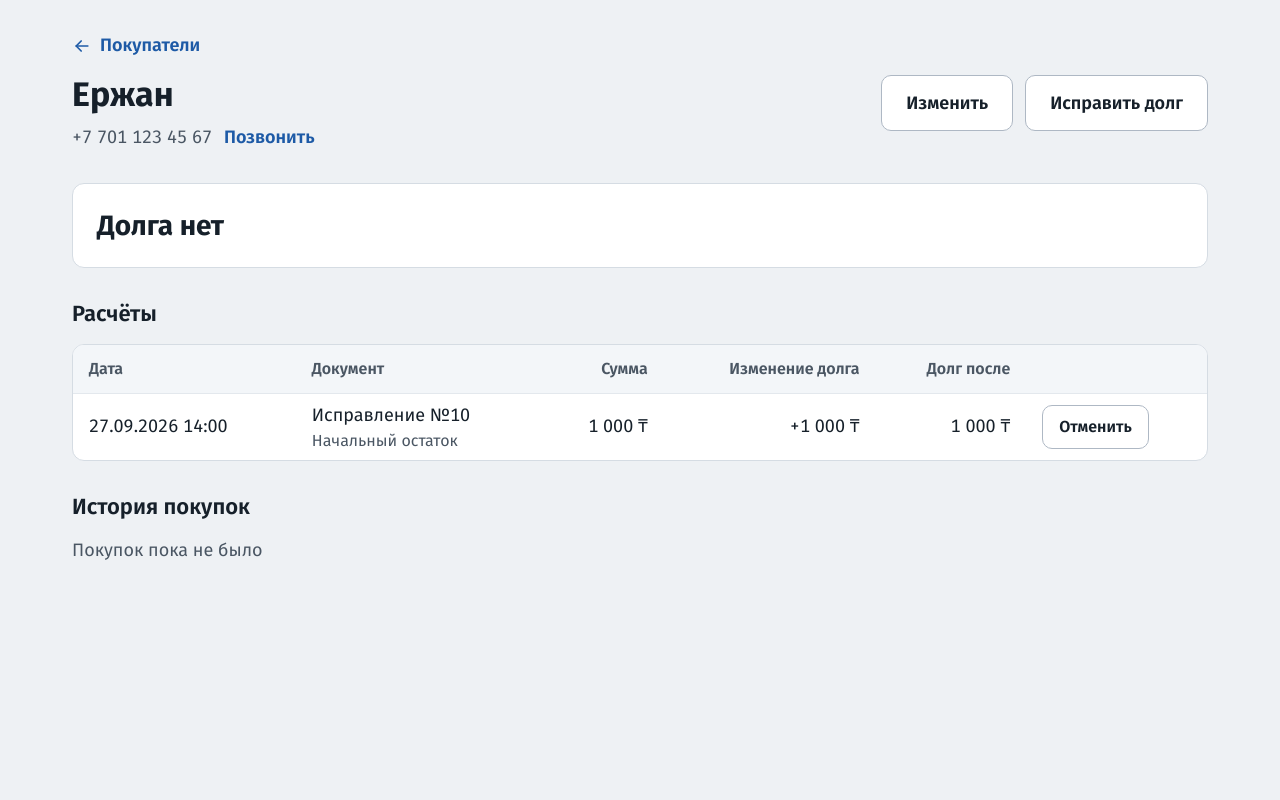
Test: opens adjustments at zero debt and cancels an adjustment with the single quick reason
What coordinates should you click on to do the following:
click the button "Исправить долг"
I would click on:
 (1117, 103)
Its box is [1025, 75, 1208, 131].
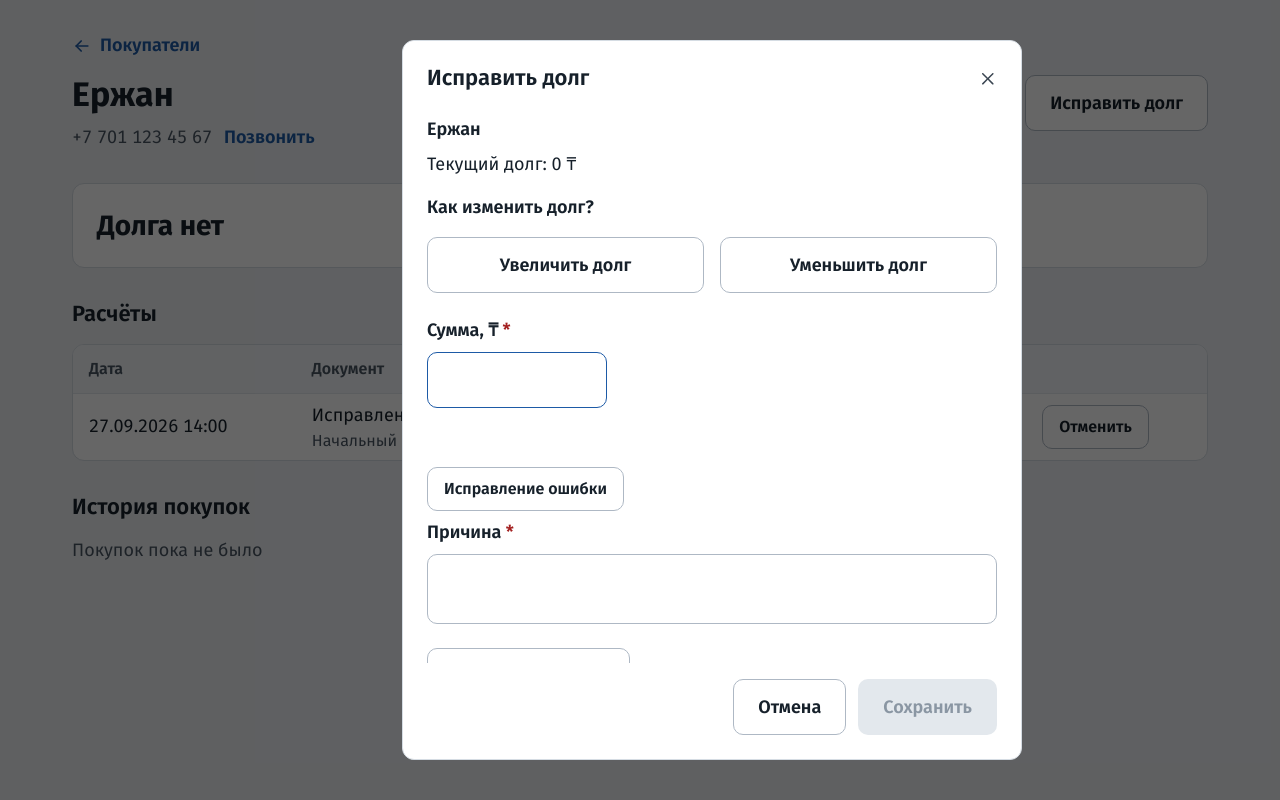
Expected: the dialog is shown, [402, 40, 1022, 760]
What coordinates should you click on to do the following:
click the button "Отмена"
I would click on:
 (790, 707)
Its box is [733, 679, 846, 735].
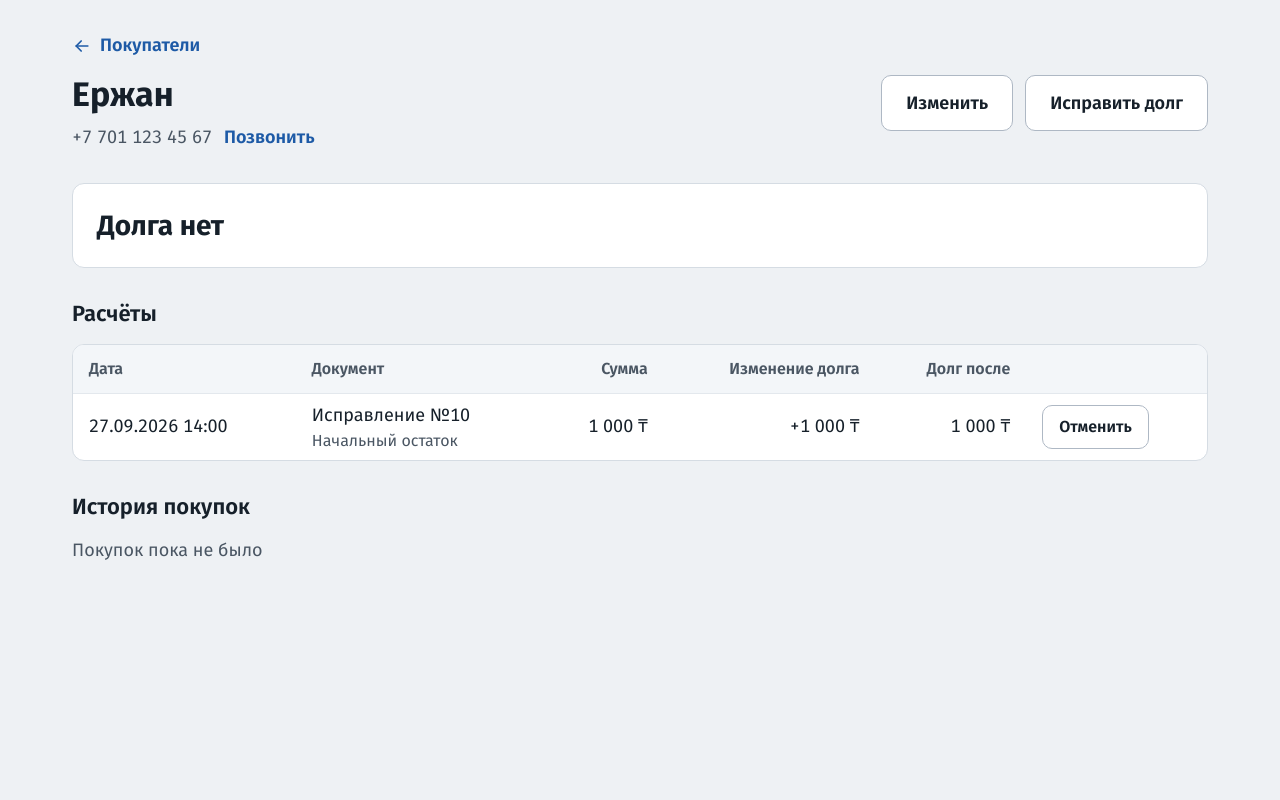
Expected: the dialog is gone
What coordinates should you click on to do the following:
click the button "Отменить"
I would click on:
 (1096, 427)
Its box is [1042, 405, 1149, 449].
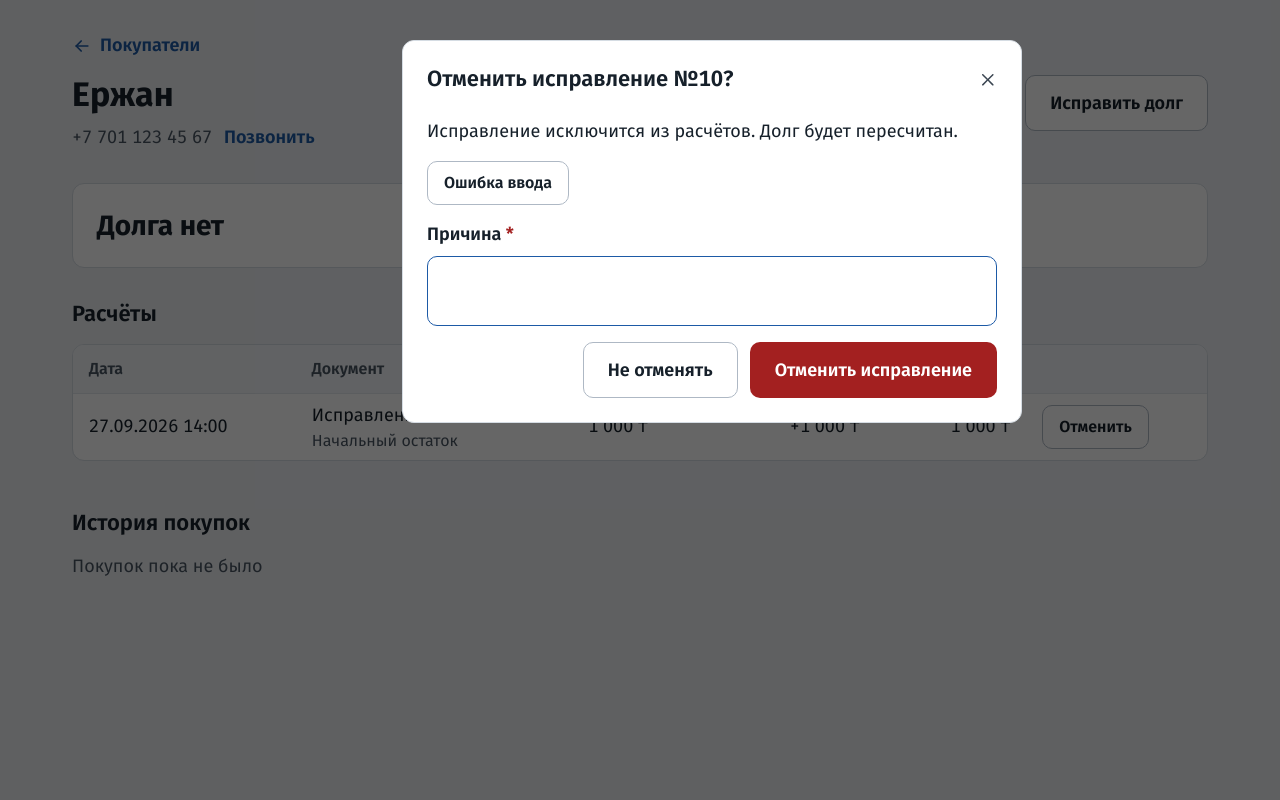
What coordinates should you click on to do the following:
click the button "Ошибка ввода"
I would click on:
 (498, 183)
Its box is [427, 161, 569, 205].
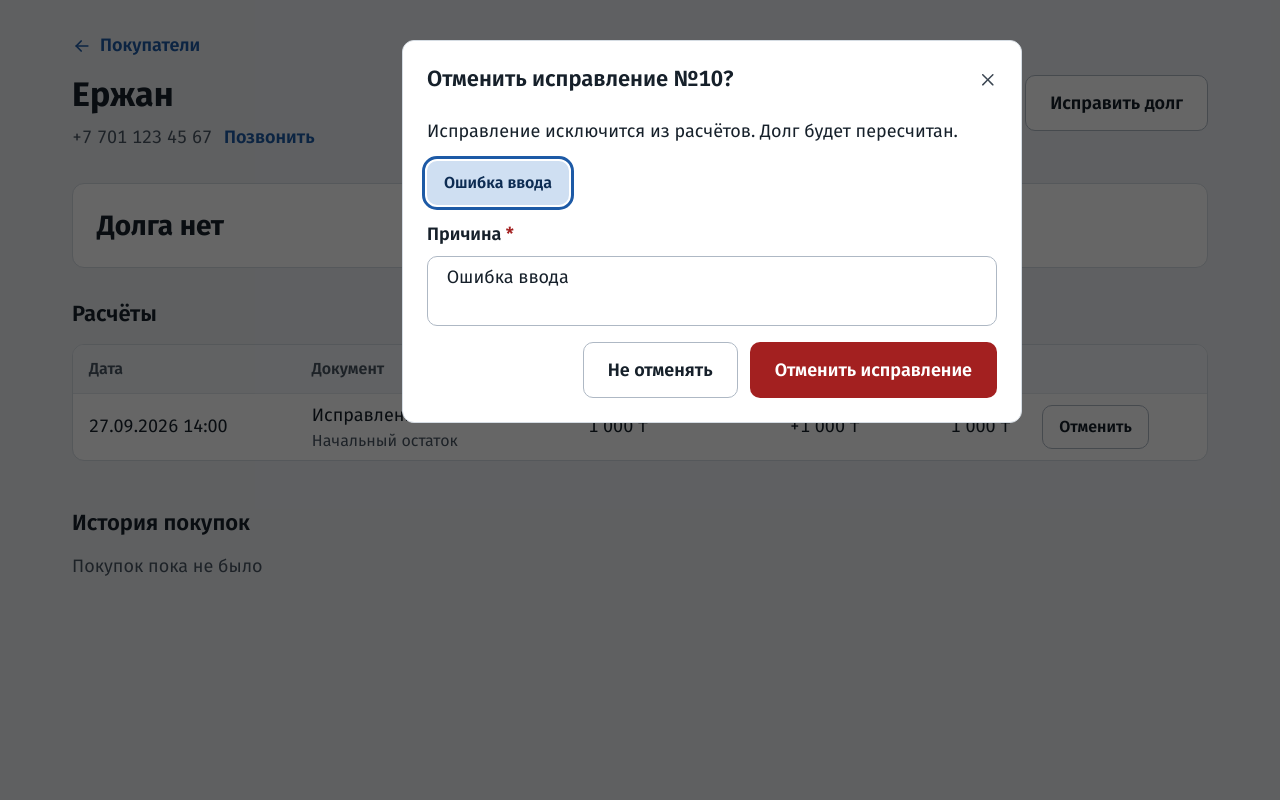
What coordinates should you click on to do the following:
click the button "Отменить исправление"
I would click on:
 (873, 370)
Its box is [750, 342, 997, 398].
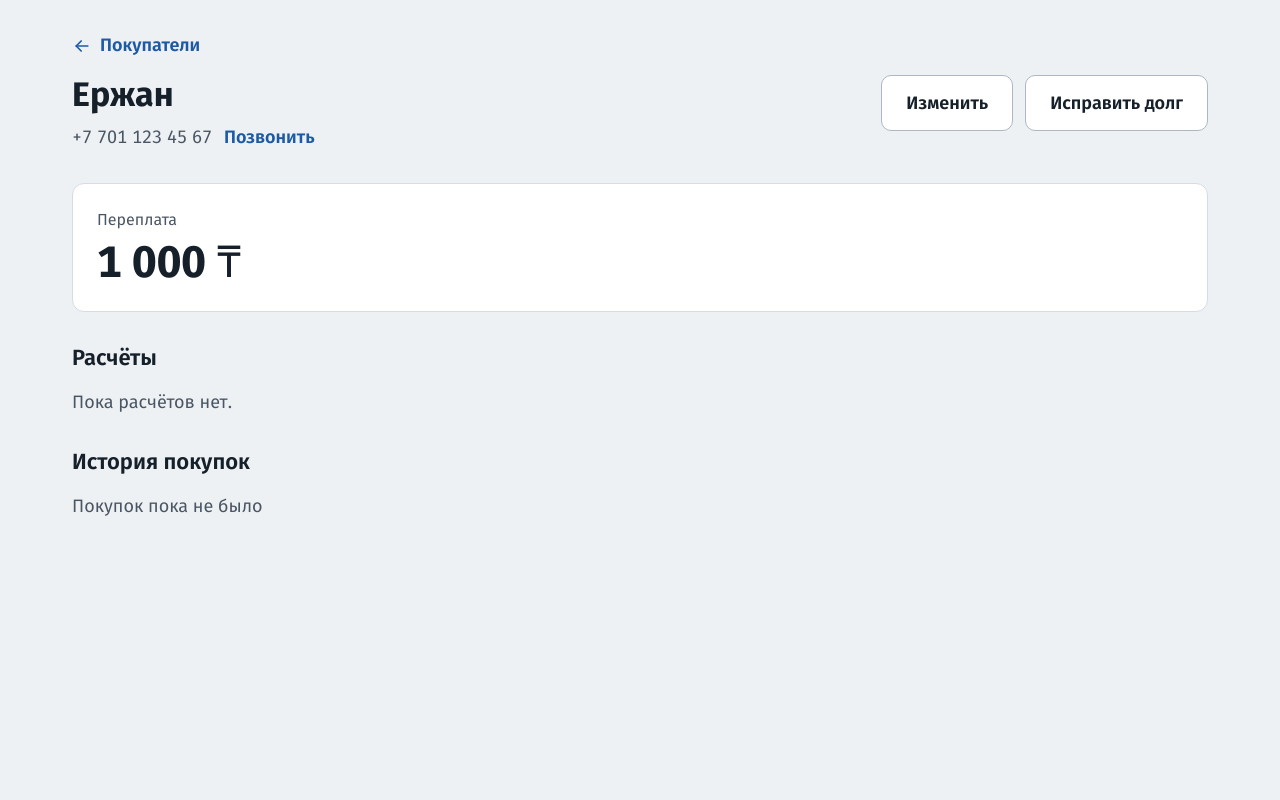
Expected: the dialog is gone
Expected: the text "Переплата" is shown, [97, 210, 177, 229]
Expected: the text "Пока расчётов нет." is shown, [72, 391, 232, 413]
